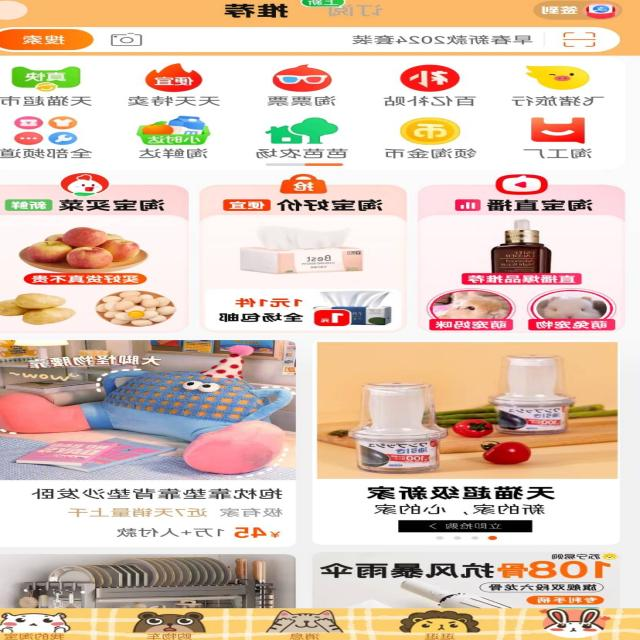Icon: (1, 114, 84, 147), (133, 64, 208, 94), (395, 63, 470, 92), (137, 116, 210, 145), (268, 64, 336, 95), (525, 63, 595, 92), (265, 118, 337, 144), (13, 66, 79, 91), (401, 118, 459, 145), (531, 118, 586, 143)
SearchBar: (0, 20, 625, 56)
